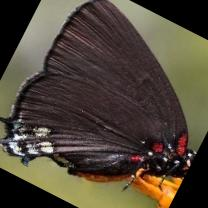butterfly: (0, 0, 195, 182)
